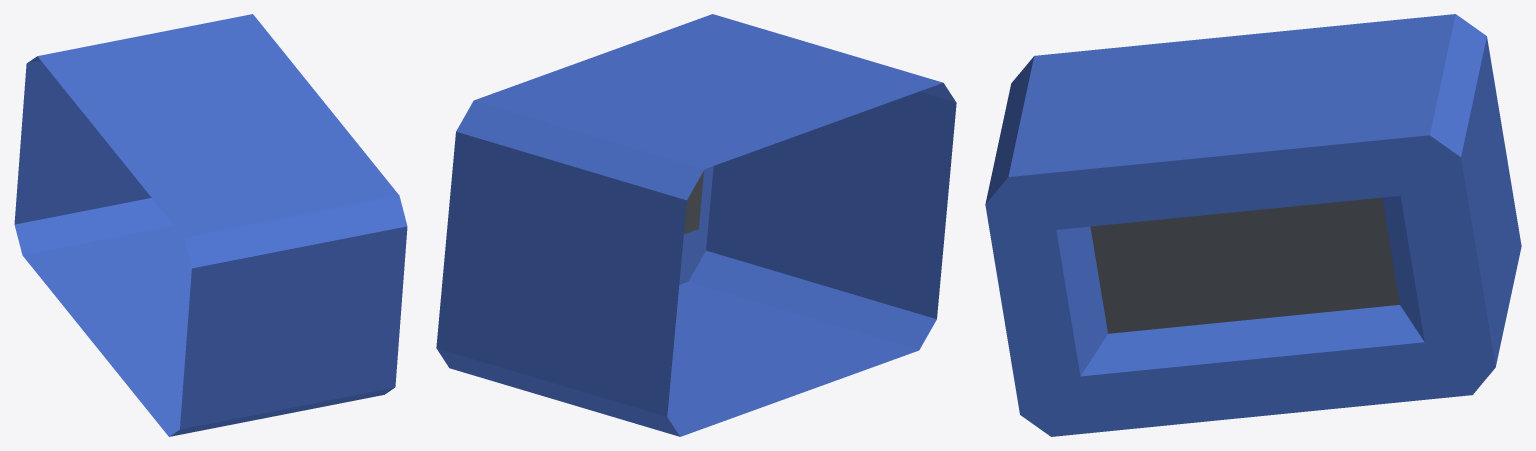
Rendered from Personal_Vehicle_01_Detail_3_Blue.fbx.
3 views of the same model, side by side, from view 1: azimuth 30°, elevation 25°; view 2: azimuth 150°, elevation 25°; view 3: azimuth 270°, elevation 25° (orthographic). The views are drawn at different scales.
Visible parts, largest first — view 1: Personal_Vehicle_01_Detail_3_Blue; view 2: Personal_Vehicle_01_Detail_3_Blue; view 3: Personal_Vehicle_01_Detail_3_Blue.
Part boxes in pixels (<box>): Personal_Vehicle_01_Detail_3_Blue: <box>14,14,407,436</box>; Personal_Vehicle_01_Detail_3_Blue: <box>436,14,956,436</box>; Personal_Vehicle_01_Detail_3_Blue: <box>985,14,1521,436</box>.
Size of the model in its own units: 17.9 by 18.75 by 28.82.
1 material, 1 textured.
